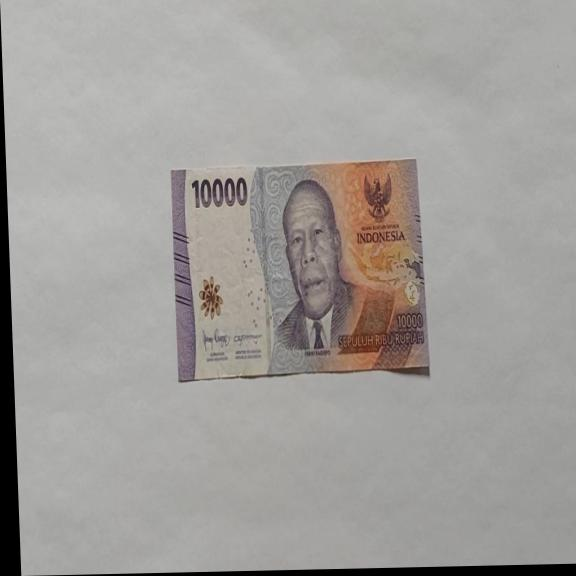Kertas: (169, 157, 430, 383), (190, 174, 249, 210)
